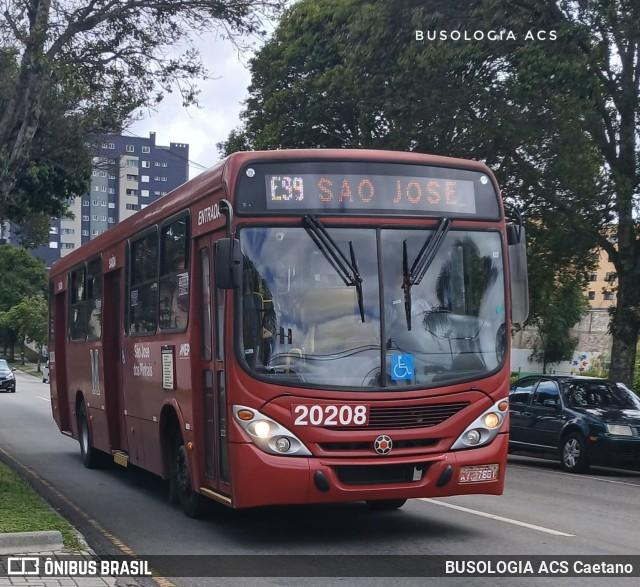SAO JOSE: (311, 172, 464, 212)
